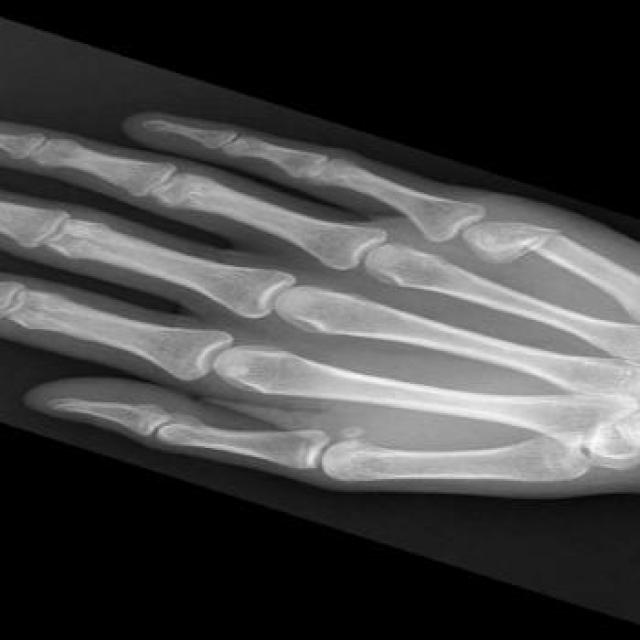Fracture: (503, 225, 575, 266)
